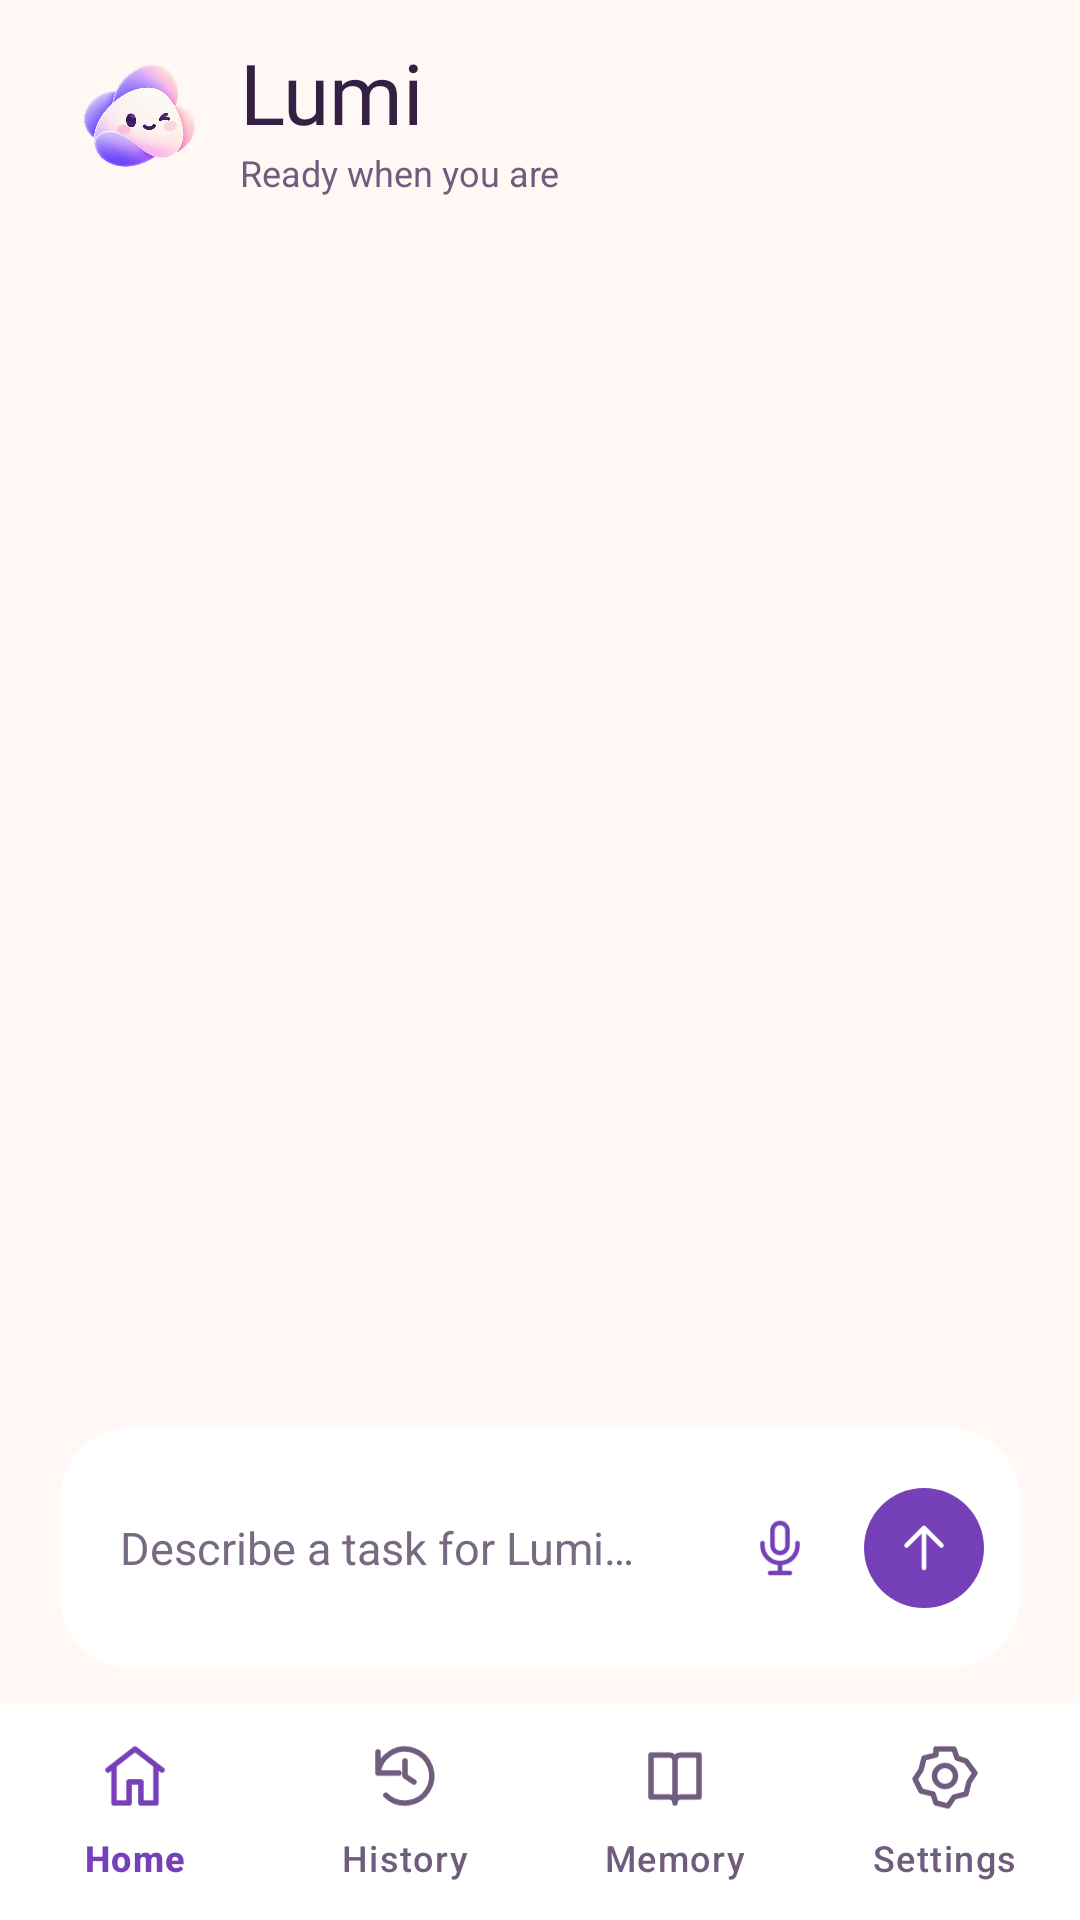

Named icons in this screenshot (1080*1920) and their centers, point (x, y):
Send: point (924, 1548)
Voice input: point (780, 1548)
